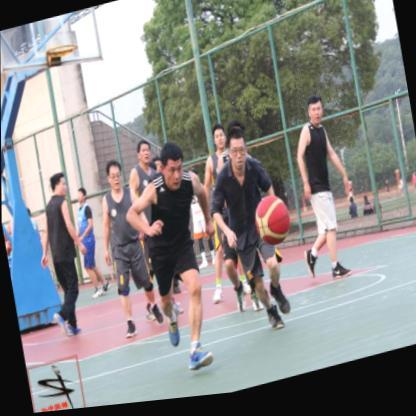basketball: (250, 196, 292, 256)
